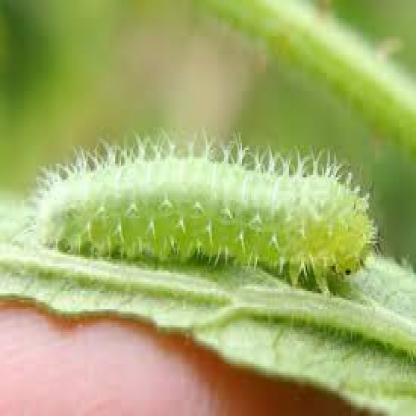sawfly: (17, 122, 384, 297)
